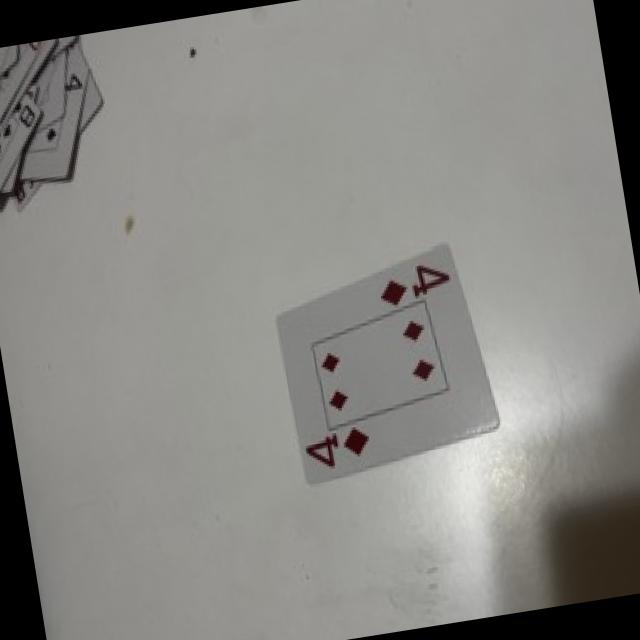4 of diamonds: (278, 246, 499, 482)
